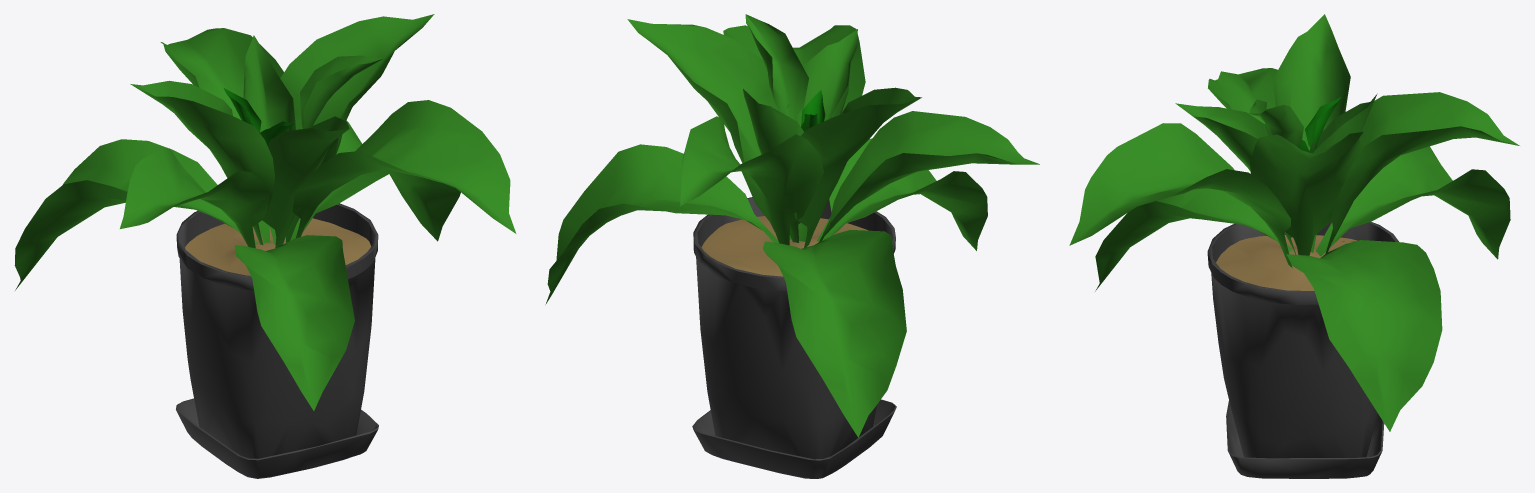
The model's file is decorative_plant_2 (1).fbx.
The picture shows the model from 3 angles, left to right: view 1: azimuth 30°, elevation 25°; view 2: azimuth 150°, elevation 25°; view 3: azimuth 270°, elevation 25°; orthographic projection. The views are drawn at different scales.
Parts seen in each view (by area): view 1: Group_004; view 2: Group_004; view 3: Group_004.
Part boxes in pixels (box(x1,y1,x2,y2)): Group_004: box(14, 14, 516, 478); Group_004: box(545, 14, 1039, 478); Group_004: box(1069, 14, 1519, 478).
Bounding box in the file's own units: 37.85 × 34.11 × 37.34.
